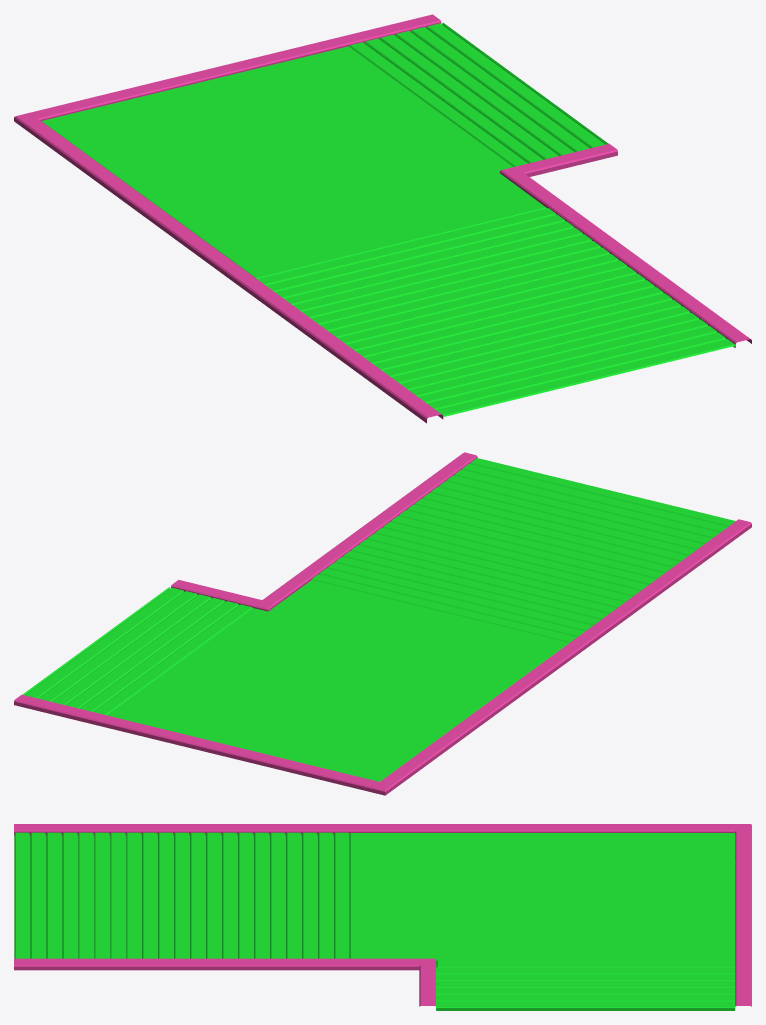
Rendered from Corner_Floor.fbx.
3 views of the same model, one above another, from view 1: azimuth 30°, elevation 25°; view 2: azimuth 150°, elevation 25°; view 3: azimuth 270°, elevation 25° (orthographic). The views are drawn at different scales.
Parts seen in each view (by area): view 1: Floor.Corner.001; view 2: Floor.Corner.001; view 3: Floor.Corner.001.
Part boxes in pixels (<box>): Floor.Corner.001: <box>14,14,751,423</box>; Floor.Corner.001: <box>14,452,751,795</box>; Floor.Corner.001: <box>14,824,751,1010</box>.
Bounding box in the file's own units: 1290 × 16.05 × 2199.
